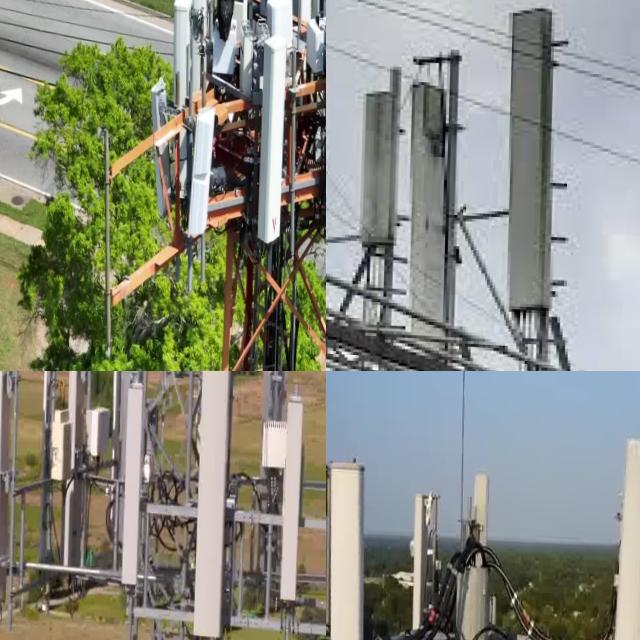GSM Antenna: (497, 0, 570, 314), (402, 84, 464, 362), (192, 371, 238, 640), (326, 456, 379, 640), (255, 22, 292, 247), (58, 371, 96, 585), (359, 87, 403, 262), (122, 375, 154, 599), (281, 396, 311, 609), (611, 425, 640, 640), (404, 488, 441, 640), (0, 371, 22, 619), (468, 459, 492, 640), (147, 66, 172, 219), (191, 101, 217, 236), (170, 0, 195, 108), (187, 0, 216, 57)
